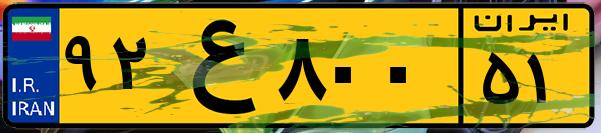0: (385, 28, 445, 110), (330, 28, 385, 110)
1: (525, 38, 570, 115)
2: (110, 28, 158, 98)
5: (475, 38, 525, 113)
8: (270, 28, 330, 110)
9: (57, 26, 110, 100)
ع: (158, 12, 270, 120)
